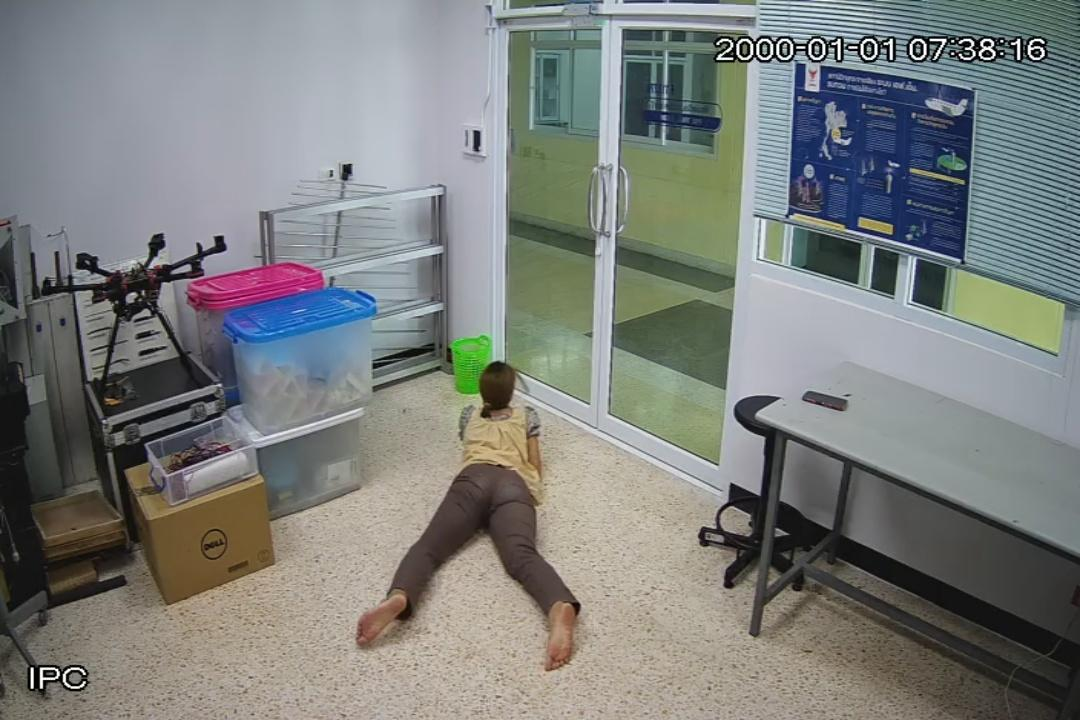fall: (357, 358, 600, 667)
